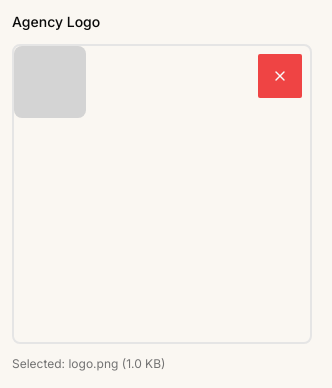
Test case: LogoUpload › Remove Functionality › clears selected file when remove clicked
The width and height of the screenshot is (332, 388).
Earlier steps of the test are not shown.
Click the button with test id "logo-remove-button": (280, 76) [258,54,302,98]
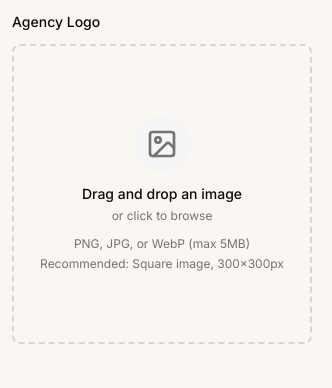
Result: the picture with test id "logo-preview-image" is gone
